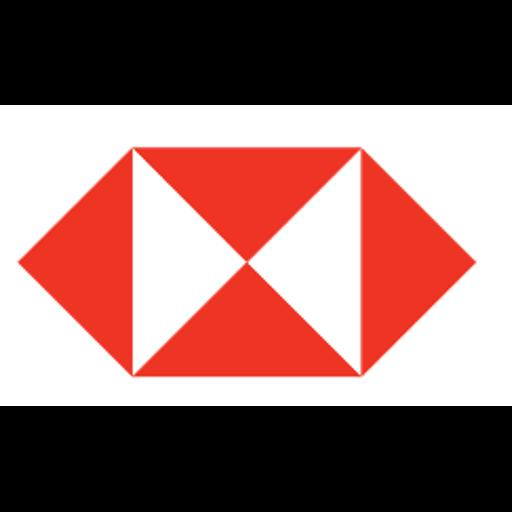HSBC Bank: (0, 105, 512, 406)
